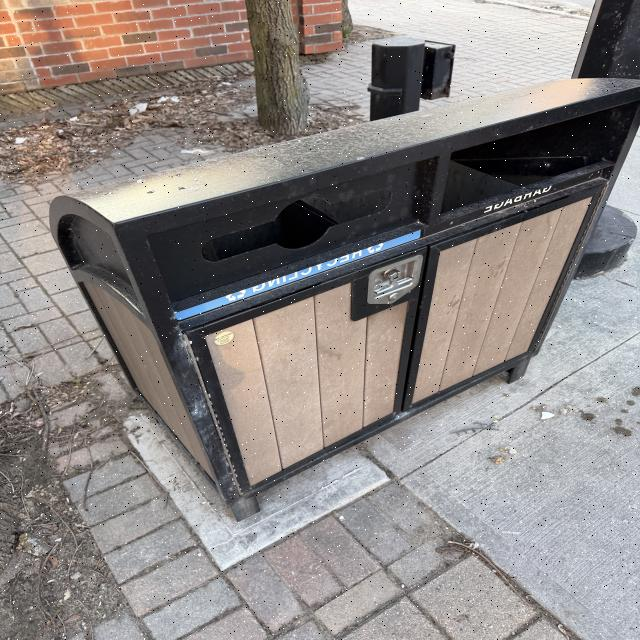Dustbin: (48, 76, 640, 524)
